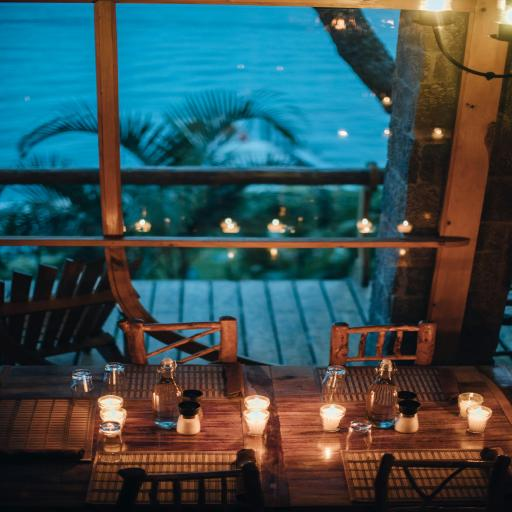candlelight: (458, 393, 492, 433)
